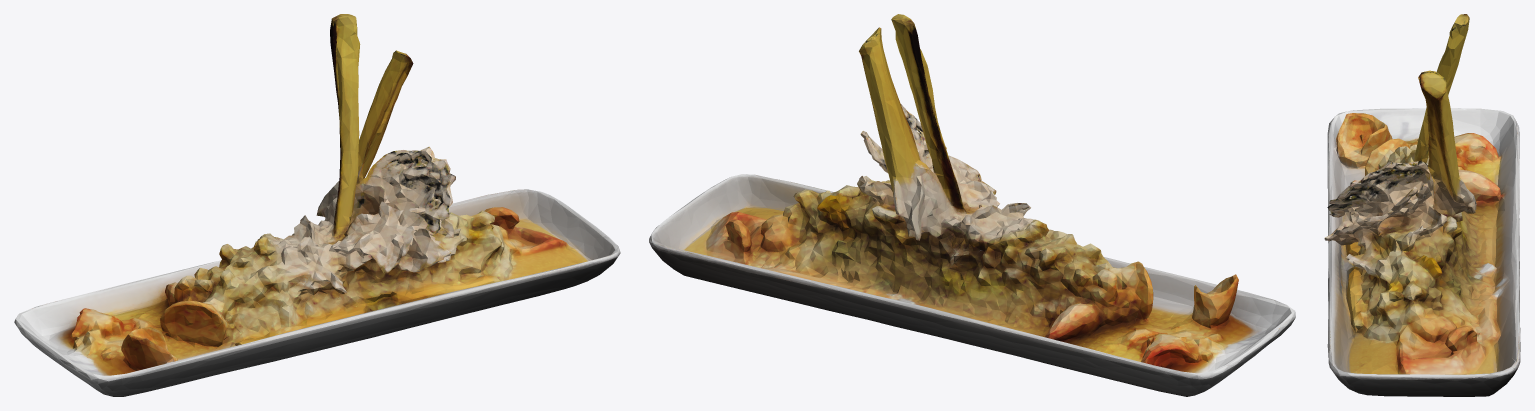
File: tigrillo.glb
The picture shows the model from 3 angles, left to right: view 1: azimuth 30°, elevation 25°; view 2: azimuth 150°, elevation 25°; view 3: azimuth 270°, elevation 25°; orthographic projection. The views are drawn at different scales.
Parts seen in each view (by area): view 1: world; view 2: world; view 3: world.
Part boxes in pixels (x1,y1,x2,y2): world: [14, 14, 620, 396]; world: [649, 14, 1295, 396]; world: [1324, 14, 1520, 396].
Size of the model in its own units: 0.9962 by 0.4927 by 0.3084.
Materials: 1 (1 with a texture image).
